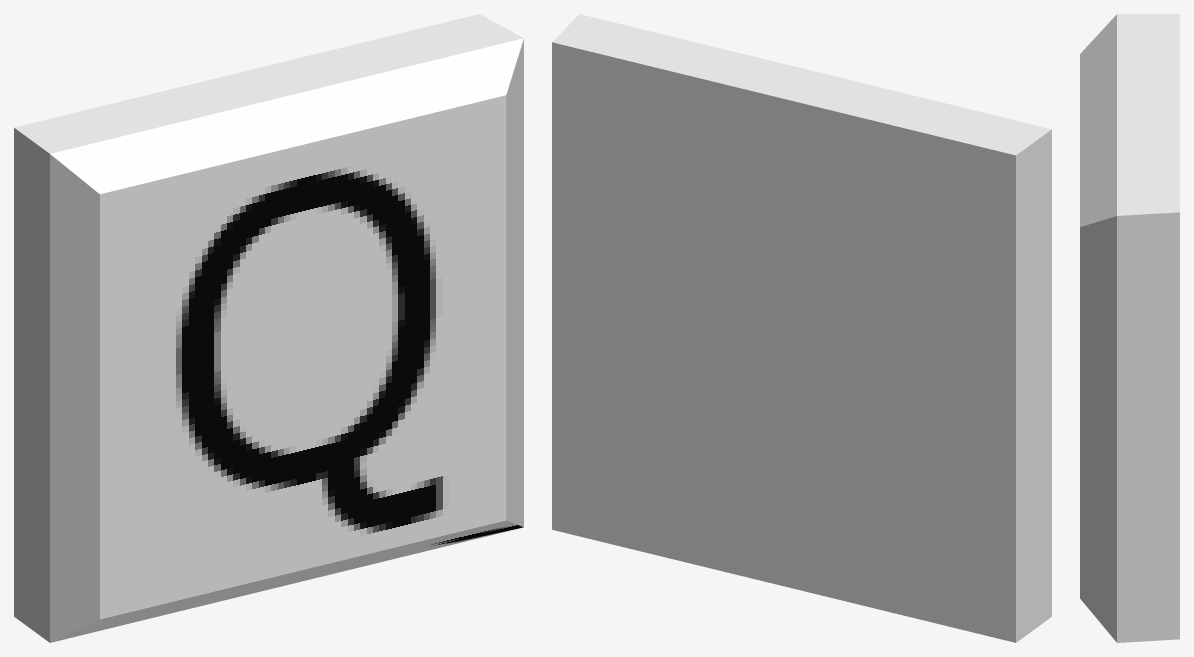
3 renders of one model, left to right at view 1: azimuth 30°, elevation 25°; view 2: azimuth 150°, elevation 25°; view 3: azimuth 270°, elevation 25°, orthographic. The views are drawn at different scales.
Parts seen in each view (by area): view 1: polySurface33; view 2: polySurface33; view 3: polySurface33.
Boxes of the visible parts, x1,y1,x2,y2 form: polySurface33: [14, 14, 523, 642]; polySurface33: [552, 14, 1051, 642]; polySurface33: [1080, 14, 1179, 642].
Size of the model in its own units: 0.2116 by 0.2086 by 0.0442.
1 material, 1 textured.
